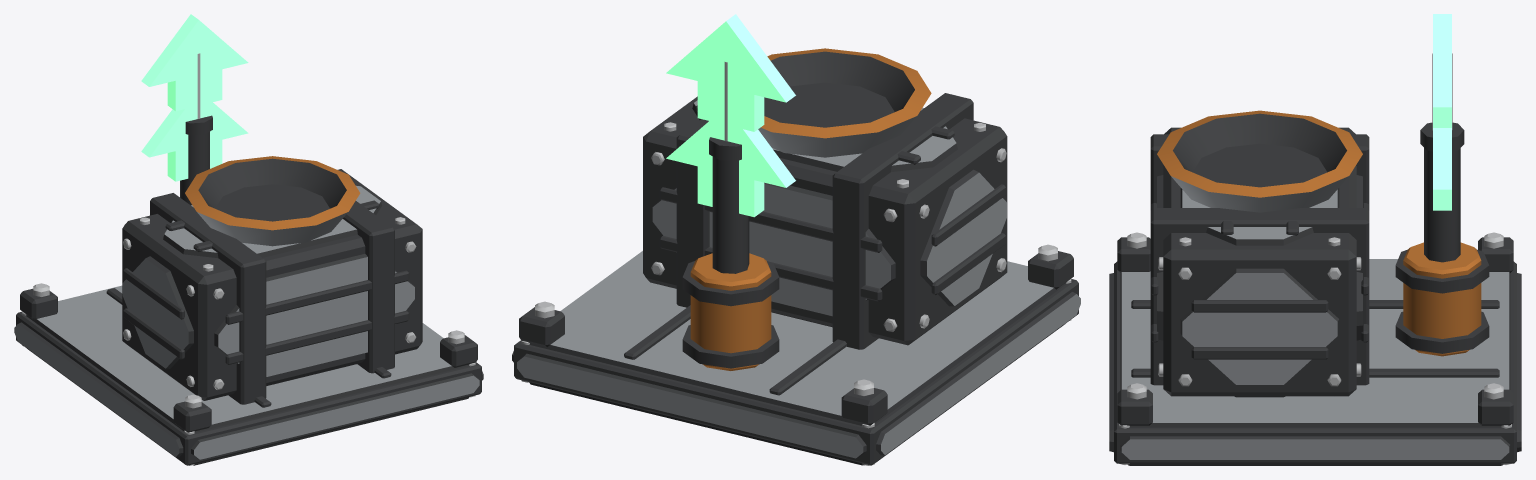
Rendered from R4X_CargoUplink.fbx.
3 views of the same model, side by side, from view 1: azimuth 30°, elevation 25°; view 2: azimuth 150°, elevation 25°; view 3: azimuth 270°, elevation 25° (orthographic). The views are drawn at different scales.
Parts seen in each view (by area): view 1: R4X_CargoUplink_Body; view 2: R4X_CargoUplink_Body; view 3: R4X_CargoUplink_Body.
Boxes of the visible parts, left/top/right/bottom form: R4X_CargoUplink_Body: left=14, top=14, right=483, bottom=465; R4X_CargoUplink_Body: left=512, top=14, right=1080, bottom=465; R4X_CargoUplink_Body: left=1109, top=14, right=1521, bottom=465.
Size of the model in its own units: 0.52 by 0.515 by 0.52.
